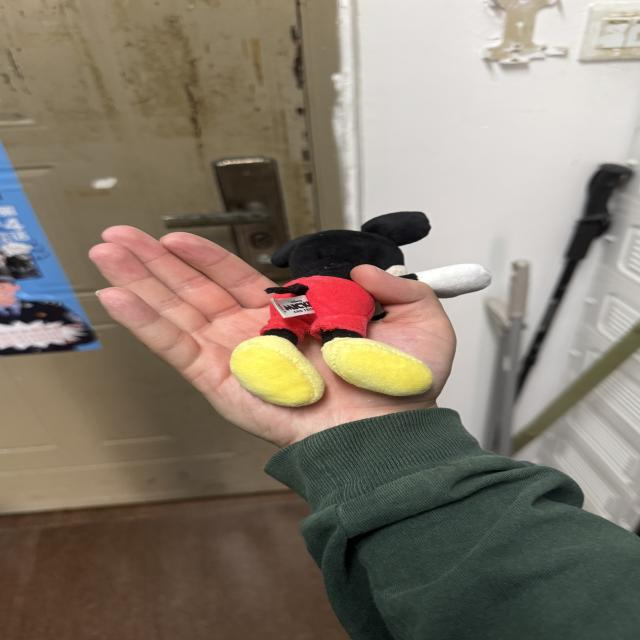mickey: (231, 212, 491, 406)
